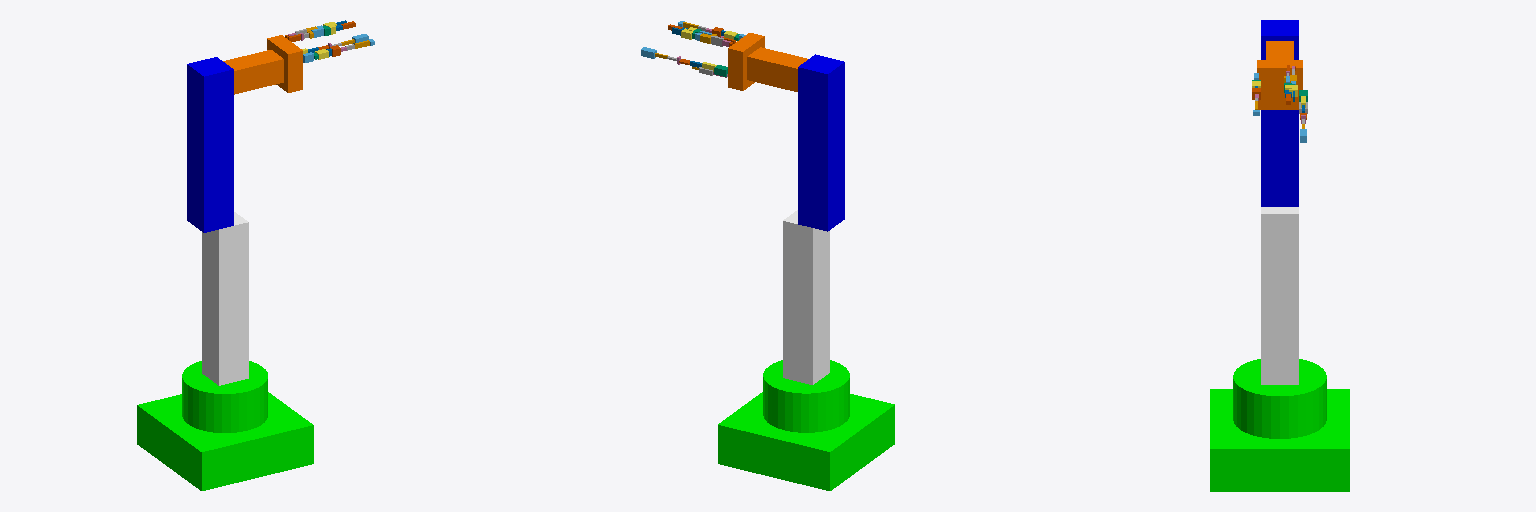
--- Render facts (derived) ---
Views: 3 orthographic renders of the robot side by side, from view 1: azimuth 30°, elevation 25°; view 2: azimuth 150°, elevation 25°; view 3: azimuth 270°, elevation 25°.
Model robot with 42 links and 41 joints (38 revolute, 1 continuous, 2 fixed), rooted at base_link, posed all joints at 0.
Links seen in each view (by area): view 1: base_link, arm_link, support_link, wrist_link, palm_link; view 2: base_link, arm_link, support_link, wrist_link, palm_link; view 3: base_link, support_link, arm_link, palm_link, wrist_link.
Link boxes in pixels (bbox=[...]): base_link: bbox=[137, 361, 313, 490]; arm_link: bbox=[187, 57, 233, 232]; support_link: bbox=[202, 212, 248, 385]; wrist_link: bbox=[223, 50, 283, 94]; palm_link: bbox=[267, 35, 302, 92]; base_link: bbox=[718, 360, 894, 490]; arm_link: bbox=[798, 54, 844, 231]; support_link: bbox=[783, 210, 829, 384]; wrist_link: bbox=[747, 47, 807, 91]; palm_link: bbox=[728, 33, 764, 90]; base_link: bbox=[1210, 359, 1349, 491]; support_link: bbox=[1261, 207, 1298, 384]; arm_link: bbox=[1261, 20, 1298, 206]; palm_link: bbox=[1257, 60, 1302, 109]; wrist_link: bbox=[1266, 41, 1293, 59].
Size in the robot's own frame: 1.4 by 0.75 by 2.55 metres.
Geometry: primitives only (box / cylinder / sphere), no mesh files.

The robot description file, URDF, robot "robot":
<?xml version='1.0' encoding='utf-8'?>
<robot name="robot">
  <link name="base_link">
    <visual>
      <origin xyz="0 0 0.125" rpy="0 0 0" />
      <geometry>
        <box size="0.75 0.75 0.25" />
      </geometry>
      <material name="green" />
    </visual>
    <visual>
      <origin xyz="0 0 0.375" rpy="0 0 0" />
      <geometry>
        <cylinder length="0.25" radius="0.25" />
      </geometry>
      <material name="green">
        <color rgba="0 1 0 1" />
      </material>
    </visual>
    <collision>
      <geometry>
        <box size="0.75 0.75 0.5" />
      </geometry>
    </collision>
    <inertial>
      <mass value="0.5" />
      <inertia ixx="0.034" ixy="0.0" ixz="0.0" iyy="0.034" iyz="0.0" izz="0.034" />
    </inertial>
  </link>
  <link name="support_link">
    <visual>
      <origin xyz="0 0 0.5" rpy="0 0 0" />
      <geometry>
        <box size="0.2 0.2 1" />
      </geometry>
      <material name="white">
        <color rgba="1 1 1 1" />
      </material>
    </visual>
    <collision>
      <geometry>
        <box size="0.2 0.2 1" />
      </geometry>
    </collision>
    <inertial>
      <mass value="0.1" />
      <inertia ixx="0.01" ixy="0.0" ixz="0.0" iyy="0.01" iyz="0.0" izz="0.01" />
    </inertial>
  </link>
  <joint name="support_joint" type="continuous">
    <origin xyz="0 0 0.5" rpy="0 0 0" />
    <parent link="base_link" />
    <child link="support_link" />
    <axis xyz="0 0 1" />
  </joint>
  <link name="arm_link">
    <visual>
      <origin xyz="0 0 0.5" rpy="0 0 0" />
      <geometry>
        <box size="0.2 0.2 1" />
      </geometry>
      <material name="blue">
        <color rgba="0 0 1 1" />
      </material>
    </visual>
    <collision>
      <geometry>
        <box size="0.2 0.2 1" />
      </geometry>
    </collision>
    <inertial>
      <mass value="0.1" />
      <inertia ixx="0.01" ixy="0.0" ixz="0.0" iyy="0.01" iyz="0.0" izz="0.01" />
    </inertial>
  </link>
  <joint name="arm_joint" type="revolute">
    <origin xyz="-0.1 0 1" rpy="0 0 0" />
    <parent link="support_link" />
    <child link="arm_link" />
    <axis xyz="0 1 0" />
    <limit lower="-3.14" upper="3.14" effort="1.0" velocity="1.0" />
  </joint>
  <link name="wrist_link">
    <visual>
      <origin xyz="0 0 0.25" rpy="0 0 0" />
      <geometry>
        <box size="0.15 0.15 0.5" />
      </geometry>
      <material name="orange">
        <color rgba="1 0.5 0 1" />
      </material>
    </visual>
    <collision>
      <geometry>
        <box size="0.15 0.15 0.5" />
      </geometry>
    </collision>
    <inertial>
      <mass value="0.1" />
      <inertia ixx="0.01" ixy="0.0" ixz="0.0" iyy="0.01" iyz="0.0" izz="0.01" />
    </inertial>
  </link>
  <joint name="wrist_joint" type="fixed">
    <origin xyz="0 0 0.9" rpy="0 1.571 0" />
    <parent link="arm_link" />
    <child link="wrist_link" />
  </joint>
  <link name="palm_link">
    <visual>
      <origin xyz="0 0 0.05" rpy="0 0 0" />
      <geometry>
        <box size="0.25 0.25 0.1" />
      </geometry>
      <material name="orange" />
    </visual>
    <collision>
      <geometry>
        <box size="0.25 0.25 0.1" />
      </geometry>
    </collision>
    <inertial>
      <mass value="0.1" />
      <inertia ixx="0.01" ixy="0.0" ixz="0.0" iyy="0.01" iyz="0.0" izz="0.01" />
    </inertial>
  </link>
  <joint name="palm_joint" type="fixed">
    <origin xyz="0 0 0.45" rpy="0 0 0" />
    <parent link="wrist_link" />
    <child link="palm_link" />
  </joint>
  <link name="finger_link_0_0">
    <visual>
      <origin xyz="0 0 0.008" rpy="0 0 0" />
      <geometry>
        <box size="0.024 0.022 0.016" />
      </geometry>
    </visual>
    <collision>
      <geometry>
        <box size="0.024 0.022 0.016" />
      </geometry>
    </collision>
    <inertial>
      <mass value="0.003" />
      <inertia ixx="0.0" iyy="0.0" izz="0.0" ixy="0" ixz="0" iyz="0" />
    </inertial>
  </link>
  <joint name="finger_joint_palm_link_to_finger_link_0_0" type="revolute">
    <origin xyz="-0.125 0.074 0.1" rpy="0 0 0" />
    <parent link="palm_link" />
    <child link="finger_link_0_0" />
    <axis xyz="0.0 -1.0 0.0" />
    <limit lower="-3.142" upper="3.142" effort="10" velocity="10" />
  </joint>
  <link name="finger_link_0_1">
    <visual>
      <origin xyz="0 0 0.023" rpy="0 0 0" />
      <geometry>
        <box size="0.031 0.017 0.046" />
      </geometry>
    </visual>
    <collision>
      <geometry>
        <box size="0.031 0.017 0.046" />
      </geometry>
    </collision>
    <inertial>
      <mass value="0.007" />
      <inertia ixx="0.0" iyy="0.0" izz="0.0" ixy="0" ixz="0" iyz="0" />
    </inertial>
  </link>
  <joint name="finger_joint_finger_link_0_0_to_finger_link_0_1" type="revolute">
    <origin xyz="0.0 0.0 0.016" rpy="0 0 0" />
    <parent link="finger_link_0_0" />
    <child link="finger_link_0_1" />
    <axis xyz="1.0 0.0 0.0" />
    <limit lower="-3.142" upper="3.142" effort="10" velocity="10" />
  </joint>
  <link name="finger_link_0_2">
    <visual>
      <origin xyz="0 0 0.0375" rpy="0 0 0" />
      <geometry>
        <box size="0.049 0.015 0.075" />
      </geometry>
    </visual>
    <collision>
      <geometry>
        <box size="0.049 0.015 0.075" />
      </geometry>
    </collision>
    <inertial>
      <mass value="0.017" />
      <inertia ixx="0.0" iyy="0.0" izz="0.0" ixy="0" ixz="0" iyz="0" />
    </inertial>
  </link>
  <joint name="finger_joint_finger_link_0_1_to_finger_link_0_2" type="revolute">
    <origin xyz="0.0 0.0 0.046" rpy="0 0 0" />
    <parent link="finger_link_0_1" />
    <child link="finger_link_0_2" />
    <axis xyz="0.0 1.0 0.0" />
    <limit lower="-3.142" upper="3.142" effort="10" velocity="10" />
  </joint>
  <link name="finger_link_0_3">
    <visual>
      <origin xyz="0 0 0.035" rpy="0 0 0" />
      <geometry>
        <box size="0.039 0.038 0.07" />
      </geometry>
    </visual>
    <collision>
      <geometry>
        <box size="0.039 0.038 0.07" />
      </geometry>
    </collision>
    <inertial>
      <mass value="0.031" />
      <inertia ixx="0.0" iyy="0.0" izz="0.0" ixy="0" ixz="0" iyz="0" />
    </inertial>
  </link>
  <joint name="finger_joint_finger_link_0_2_to_finger_link_0_3" type="revolute">
    <origin xyz="0.0 0.0 0.075" rpy="0 0 0" />
    <parent link="finger_link_0_2" />
    <child link="finger_link_0_3" />
    <axis xyz="1.0 0.0 0.0" />
    <limit lower="-3.142" upper="3.142" effort="10" velocity="10" />
  </joint>
  <link name="finger_link_0_4">
    <visual>
      <origin xyz="0 0 0.0185" rpy="0 0 0" />
      <geometry>
        <box size="0.038 0.026 0.037" />
      </geometry>
    </visual>
    <collision>
      <geometry>
        <box size="0.038 0.026 0.037" />
      </geometry>
    </collision>
    <inertial>
      <mass value="0.011" />
      <inertia ixx="0.0" iyy="0.0" izz="0.0" ixy="0" ixz="0" iyz="0" />
    </inertial>
  </link>
  <joint name="finger_joint_finger_link_0_3_to_finger_link_0_4" type="revolute">
    <origin xyz="0.0 0.0 0.07" rpy="0 0 0" />
    <parent link="finger_link_0_3" />
    <child link="finger_link_0_4" />
    <axis xyz="0.0 1.0 0.0" />
    <limit lower="-3.142" upper="3.142" effort="10" velocity="10" />
  </joint>
  <link name="finger_link_0_5">
    <visual>
      <origin xyz="0 0 0.0095" rpy="0 0 0" />
      <geometry>
        <box size="0.035 0.017 0.019" />
      </geometry>
    </visual>
    <collision>
      <geometry>
        <box size="0.035 0.017 0.019" />
      </geometry>
    </collision>
    <inertial>
      <mass value="0.003" />
      <inertia ixx="0.0" iyy="0.0" izz="0.0" ixy="0" ixz="0" iyz="0" />
    </inertial>
  </link>
  <joint name="finger_joint_finger_link_0_4_to_finger_link_0_5" type="revolute">
    <origin xyz="0.0 0.0 0.037" rpy="0 0 0" />
    <parent link="finger_link_0_4" />
    <child link="finger_link_0_5" />
    <axis xyz="0.0 1.0 0.0" />
    <limit lower="-3.142" upper="3.142" effort="10" velocity="10" />
  </joint>
  <link name="finger_link_0_6">
    <visual>
      <origin xyz="0 0 0.0325" rpy="0 0 0" />
      <geometry>
        <box size="0.04 0.047 0.065" />
      </geometry>
    </visual>
    <collision>
      <geometry>
        <box size="0.04 0.047 0.065" />
      </geometry>
    </collision>
    <inertial>
      <mass value="0.037" />
      <inertia ixx="0.0" iyy="0.0" izz="0.0" ixy="0" ixz="0" iyz="0" />
    </inertial>
  </link>
  <joint name="finger_joint_finger_link_0_5_to_finger_link_0_6" type="revolute">
    <origin xyz="0.0 0.0 0.019" rpy="0 0 0" />
    <parent link="finger_link_0_5" />
    <child link="finger_link_0_6" />
    <axis xyz="1.0 0.0 0.0" />
    <limit lower="-3.142" upper="3.142" effort="10" velocity="10" />
  </joint>
  <link name="finger_link_0_7">
    <visual>
      <origin xyz="0 0 0.036" rpy="0 0 0" />
      <geometry>
        <box size="0.034 0.012 0.072" />
      </geometry>
    </visual>
    <collision>
      <geometry>
        <box size="0.034 0.012 0.072" />
      </geometry>
    </collision>
    <inertial>
      <mass value="0.009" />
      <inertia ixx="0.0" iyy="0.0" izz="0.0" ixy="0" ixz="0" iyz="0" />
    </inertial>
  </link>
  <joint name="finger_joint_finger_link_0_6_to_finger_link_0_7" type="revolute">
    <origin xyz="0.0 0.0 0.065" rpy="0 0 0" />
    <parent link="finger_link_0_6" />
    <child link="finger_link_0_7" />
    <axis xyz="0.0 1.0 0.0" />
    <limit lower="-3.142" upper="3.142" effort="10" velocity="10" />
  </joint>
  <link name="finger_link_1_0">
    <visual>
      <origin xyz="0 0 0.04" rpy="0 0 0" />
      <geometry>
        <box size="0.032 0.016 0.08" />
      </geometry>
    </visual>
    <collision>
      <geometry>
        <box size="0.032 0.016 0.08" />
      </geometry>
    </collision>
    <inertial>
      <mass value="0.012" />
      <inertia ixx="0.0" iyy="0.0" izz="0.0" ixy="0" ixz="0" iyz="0" />
    </inertial>
  </link>
  <joint name="finger_joint_palm_link_to_finger_link_1_0" type="revolute">
    <origin xyz="-0.125 0.044 0.1" rpy="0 0 0" />
    <parent link="palm_link" />
    <child link="finger_link_1_0" />
    <axis xyz="0.0 -1.0 0.0" />
    <limit lower="-3.142" upper="3.142" effort="10" velocity="10" />
  </joint>
  <link name="finger_link_1_1">
    <visual>
      <origin xyz="0 0 0.007" rpy="0 0 0" />
      <geometry>
        <box size="0.04 0.02 0.014" />
      </geometry>
    </visual>
    <collision>
      <geometry>
        <box size="0.04 0.02 0.014" />
      </geometry>
    </collision>
    <inertial>
      <mass value="0.003" />
      <inertia ixx="0.0" iyy="0.0" izz="0.0" ixy="0" ixz="0" iyz="0" />
    </inertial>
  </link>
  <joint name="finger_joint_finger_link_1_0_to_finger_link_1_1" type="revolute">
    <origin xyz="0.0 0.0 0.08" rpy="0 0 0" />
    <parent link="finger_link_1_0" />
    <child link="finger_link_1_1" />
    <axis xyz="1.0 0.0 0.0" />
    <limit lower="-3.142" upper="3.142" effort="10" velocity="10" />
  </joint>
  <link name="finger_link_1_2">
    <visual>
      <origin xyz="0 0 0.0195" rpy="0 0 0" />
      <geometry>
        <box size="0.026 0.012 0.039" />
      </geometry>
    </visual>
    <collision>
      <geometry>
        <box size="0.026 0.012 0.039" />
      </geometry>
    </collision>
    <inertial>
      <mass value="0.004" />
      <inertia ixx="0.0" iyy="0.0" izz="0.0" ixy="0" ixz="0" iyz="0" />
    </inertial>
  </link>
  <joint name="finger_joint_finger_link_1_1_to_finger_link_1_2" type="revolute">
    <origin xyz="0.0 0.0 0.014" rpy="0 0 0" />
    <parent link="finger_link_1_1" />
    <child link="finger_link_1_2" />
    <axis xyz="1.0 0.0 0.0" />
    <limit lower="-3.142" upper="3.142" effort="10" velocity="10" />
  </joint>
  <link name="finger_link_1_3">
    <visual>
      <origin xyz="0 0 0.012" rpy="0 0 0" />
      <geometry>
        <box size="0.031 0.042 0.024" />
      </geometry>
    </visual>
    <collision>
      <geometry>
        <box size="0.031 0.042 0.024" />
      </geometry>
    </collision>
    <inertial>
      <mass value="0.009" />
      <inertia ixx="0.0" iyy="0.0" izz="0.0" ixy="0" ixz="0" iyz="0" />
    </inertial>
  </link>
  <joint name="finger_joint_finger_link_1_2_to_finger_link_1_3" type="revolute">
    <origin xyz="0.0 0.0 0.039" rpy="0 0 0" />
    <parent link="finger_link_1_2" />
    <child link="finger_link_1_3" />
    <axis xyz="0.0 1.0 0.0" />
    <limit lower="-3.142" upper="3.142" effort="10" velocity="10" />
  </joint>
  <link name="finger_link_1_4">
    <visual>
      <origin xyz="0 0 0.0375" rpy="0 0 0" />
      <geometry>
        <box size="0.045 0.019 0.075" />
      </geometry>
    </visual>
    <collision>
      <geometry>
        <box size="0.045 0.019 0.075" />
      </geometry>
    </collision>
    <inertial>
      <mass value="0.019" />
      <inertia ixx="0.0" iyy="0.0" izz="0.0" ixy="0" ixz="0" iyz="0" />
    </inertial>
  </link>
  <joint name="finger_joint_finger_link_1_3_to_finger_link_1_4" type="revolute">
    <origin xyz="0.0 0.0 0.024" rpy="0 0 0" />
    <parent link="finger_link_1_3" />
    <child link="finger_link_1_4" />
    <axis xyz="1.0 0.0 0.0" />
    <limit lower="-3.142" upper="3.142" effort="10" velocity="10" />
  </joint>
  <link name="finger_link_1_5">
    <visual>
      <origin xyz="0 0 0.0175" rpy="0 0 0" />
      <geometry>
        <box size="0.043 0.045 0.035" />
      </geometry>
    </visual>
    <collision>
      <geometry>
        <box size="0.043 0.045 0.035" />
      </geometry>
    </collision>
    <inertial>
      <mass value="0.02" />
      <inertia ixx="0.0" iyy="0.0" izz="0.0" ixy="0" ixz="0" iyz="0" />
    </inertial>
  </link>
  <joint name="finger_joint_finger_link_1_4_to_finger_link_1_5" type="revolute">
    <origin xyz="0.0 0.0 0.075" rpy="0 0 0" />
    <parent link="finger_link_1_4" />
    <child link="finger_link_1_5" />
    <axis xyz="0.0 1.0 0.0" />
    <limit lower="-3.142" upper="3.142" effort="10" velocity="10" />
  </joint>
  <link name="finger_link_1_6">
    <visual>
      <origin xyz="0 0 0.0195" rpy="0 0 0" />
      <geometry>
        <box size="0.047 0.039 0.039" />
      </geometry>
    </visual>
    <collision>
      <geometry>
        <box size="0.047 0.039 0.039" />
      </geometry>
    </collision>
    <inertial>
      <mass value="0.021" />
      <inertia ixx="0.0" iyy="0.0" izz="0.0" ixy="0" ixz="0" iyz="0" />
    </inertial>
  </link>
  <joint name="finger_joint_finger_link_1_5_to_finger_link_1_6" type="revolute">
    <origin xyz="0.0 0.0 0.035" rpy="0 0 0" />
    <parent link="finger_link_1_5" />
    <child link="finger_link_1_6" />
    <axis xyz="1.0 0.0 0.0" />
    <limit lower="-3.142" upper="3.142" effort="10" velocity="10" />
  </joint>
  <link name="finger_link_1_7">
    <visual>
      <origin xyz="0 0 0.0245" rpy="0 0 0" />
      <geometry>
        <box size="0.021 0.035 0.049" />
      </geometry>
    </visual>
    <collision>
      <geometry>
        <box size="0.021 0.035 0.049" />
      </geometry>
    </collision>
    <inertial>
      <mass value="0.011" />
      <inertia ixx="0.0" iyy="0.0" izz="0.0" ixy="0" ixz="0" iyz="0" />
    </inertial>
  </link>
  <joint name="finger_joint_finger_link_1_6_to_finger_link_1_7" type="revolute">
    <origin xyz="0.0 0.0 0.039" rpy="0 0 0" />
    <parent link="finger_link_1_6" />
    <child link="finger_link_1_7" />
    <axis xyz="0.0 1.0 0.0" />
    <limit lower="-3.142" upper="3.142" effort="10" velocity="10" />
  </joint>
  <link name="finger_link_1_8">
    <visual>
      <origin xyz="0 0 0.0425" rpy="0 0 0" />
      <geometry>
        <box size="0.026 0.025 0.085" />
      </geometry>
    </visual>
    <collision>
      <geometry>
        <box size="0.026 0.025 0.085" />
      </geometry>
    </collision>
    <inertial>
      <mass value="0.017" />
      <inertia ixx="0.0" iyy="0.0" izz="0.0" ixy="0" ixz="0" iyz="0" />
    </inertial>
  </link>
  <joint name="finger_joint_finger_link_1_7_to_finger_link_1_8" type="revolute">
    <origin xyz="0.0 0.0 0.049" rpy="0 0 0" />
    <parent link="finger_link_1_7" />
    <child link="finger_link_1_8" />
    <axis xyz="0.0 1.0 0.0" />
    <limit lower="-3.142" upper="3.142" effort="10" velocity="10" />
  </joint>
  <link name="finger_link_2_0">
    <visual>
      <origin xyz="0 0 0.045" rpy="0 0 0" />
      <geometry>
        <box size="0.018 0.034 0.09" />
      </geometry>
    </visual>
    <collision>
      <geometry>
        <box size="0.018 0.034 0.09" />
      </geometry>
    </collision>
    <inertial>
      <mass value="0.017" />
      <inertia ixx="0.0" iyy="0.0" izz="0.0" ixy="0" ixz="0" iyz="0" />
    </inertial>
  </link>
  <joint name="finger_joint_palm_link_to_finger_link_2_0" type="revolute">
    <origin xyz="0.048 0.125 0.1" rpy="0 0 0" />
    <parent link="palm_link" />
    <child link="finger_link_2_0" />
    <axis xyz="-1.0 0.0 0.0" />
    <limit lower="-3.142" upper="3.142" effort="10" velocity="10" />
  </joint>
  <link name="finger_link_2_1">
    <visual>
      <origin xyz="0 0 0.046" rpy="0 0 0" />
      <geometry>
        <box size="0.029 0.048 0.092" />
      </geometry>
    </visual>
    <collision>
      <geometry>
        <box size="0.029 0.048 0.092" />
      </geometry>
    </collision>
    <inertial>
      <mass value="0.038" />
      <inertia ixx="0.0" iyy="0.0" izz="0.0" ixy="0" ixz="0" iyz="0" />
    </inertial>
  </link>
  <joint name="finger_joint_finger_link_2_0_to_finger_link_2_1" type="revolute">
    <origin xyz="0.0 0.0 0.09" rpy="0 0 0" />
    <parent link="finger_link_2_0" />
    <child link="finger_link_2_1" />
    <axis xyz="0.0 1.0 0.0" />
    <limit lower="-3.142" upper="3.142" effort="10" velocity="10" />
  </joint>
  <link name="finger_link_2_2">
    <visual>
      <origin xyz="0 0 0.0245" rpy="0 0 0" />
      <geometry>
        <box size="0.014 0.02 0.049" />
      </geometry>
    </visual>
    <collision>
      <geometry>
        <box size="0.014 0.02 0.049" />
      </geometry>
    </collision>
    <inertial>
      <mass value="0.004" />
      <inertia ixx="0.0" iyy="0.0" izz="0.0" ixy="0" ixz="0" iyz="0" />
    </inertial>
  </link>
  <joint name="finger_joint_finger_link_2_1_to_finger_link_2_2" type="revolute">
    <origin xyz="0.0 0.0 0.092" rpy="0 0 0" />
    <parent link="finger_link_2_1" />
    <child link="finger_link_2_2" />
    <axis xyz="1.0 0.0 0.0" />
    <limit lower="-3.142" upper="3.142" effort="10" velocity="10" />
  </joint>
  <link name="finger_link_3_0">
    <visual>
      <origin xyz="0 0 0.0325" rpy="0 0 0" />
      <geometry>
        <box size="0.046 0.031 0.065" />
      </geometry>
    </visual>
    <collision>
      <geometry>
        <box size="0.046 0.031 0.065" />
      </geometry>
    </collision>
    <inertial>
      <mass value="0.028" />
      <inertia ixx="0.0" iyy="0.0" izz="0.0" ixy="0" ixz="0" iyz="0" />
    </inertial>
  </link>
  <joint name="finger_joint_palm_link_to_finger_link_3_0" type="revolute">
    <origin xyz="-0.072 -0.125 0.1" rpy="0 0 0" />
    <parent link="palm_link" />
    <child link="finger_link_3_0" />
    <axis xyz="1.0 0.0 0.0" />
    <limit lower="-3.142" upper="3.142" effort="10" velocity="10" />
  </joint>
  <link name="finger_link_3_1">
    <visual>
      <origin xyz="0 0 0.013" rpy="0 0 0" />
      <geometry>
        <box size="0.024 0.046 0.026" />
      </geometry>
    </visual>
    <collision>
      <geometry>
        <box size="0.024 0.046 0.026" />
      </geometry>
    </collision>
    <inertial>
      <mass value="0.009" />
      <inertia ixx="0.0" iyy="0.0" izz="0.0" ixy="0" ixz="0" iyz="0" />
    </inertial>
  </link>
  <joint name="finger_joint_finger_link_3_0_to_finger_link_3_1" type="revolute">
    <origin xyz="0.0 0.0 0.065" rpy="0 0 0" />
    <parent link="finger_link_3_0" />
    <child link="finger_link_3_1" />
    <axis xyz="1.0 0.0 0.0" />
    <limit lower="-3.142" upper="3.142" effort="10" velocity="10" />
  </joint>
  <link name="finger_link_3_2">
    <visual>
      <origin xyz="0 0 0.0345" rpy="0 0 0" />
      <geometry>
        <box size="0.037 0.048 0.069" />
      </geometry>
    </visual>
    <collision>
      <geometry>
        <box size="0.037 0.048 0.069" />
      </geometry>
    </collision>
    <inertial>
      <mass value="0.037" />
      <inertia ixx="0.0" iyy="0.0" izz="0.0" ixy="0" ixz="0" iyz="0" />
    </inertial>
  </link>
  <joint name="finger_joint_finger_link_3_1_to_finger_link_3_2" type="revolute">
    <origin xyz="0.0 0.0 0.026" rpy="0 0 0" />
    <parent link="finger_link_3_1" />
    <child link="finger_link_3_2" />
    <axis xyz="0.0 1.0 0.0" />
    <limit lower="-3.142" upper="3.142" effort="10" velocity="10" />
  </joint>
  <link name="finger_link_3_3">
    <visual>
      <origin xyz="0 0 0.0135" rpy="0 0 0" />
      <geometry>
        <box size="0.041 0.02 0.027" />
      </geometry>
    </visual>
    <collision>
      <geometry>
        <box size="0.041 0.02 0.027" />
      </geometry>
    </collision>
    <inertial>
      <mass value="0.007" />
      <inertia ixx="0.0" iyy="0.0" izz="0.0" ixy="0" ixz="0" iyz="0" />
    </inertial>
  </link>
  <joint name="finger_joint_finger_link_3_2_to_finger_link_3_3" type="revolute">
    <origin xyz="0.0 0.0 0.069" rpy="0 0 0" />
    <parent link="finger_link_3_2" />
    <child link="finger_link_3_3" />
    <axis xyz="1.0 0.0 0.0" />
    <limit lower="-3.142" upper="3.142" effort="10" velocity="10" />
  </joint>
  <link name="finger_link_3_4">
    <visual>
      <origin xyz="0 0 0.026" rpy="0 0 0" />
      <geometry>
        <box size="0.046 0.047 0.052" />
      </geometry>
    </visual>
    <collision>
      <geometry>
        <box size="0.046 0.047 0.052" />
      </geometry>
    </collision>
    <inertial>
      <mass value="0.034" />
      <inertia ixx="0.0" iyy="0.0" izz="0.0" ixy="0" ixz="0" iyz="0" />
    </inertial>
  </link>
  <joint name="finger_joint_finger_link_3_3_to_finger_link_3_4" type="revolute">
    <origin xyz="0.0 0.0 0.027" rpy="0 0 0" />
    <parent link="finger_link_3_3" />
    <child link="finger_link_3_4" />
    <axis xyz="0.0 1.0 0.0" />
    <limit lower="-3.142" upper="3.142" effort="10" velocity="10" />
  </joint>
  <link name="finger_link_3_5">
    <visual>
      <origin xyz="0 0 0.0235" rpy="0 0 0" />
      <geometry>
        <box size="0.018 0.021 0.047" />
      </geometry>
    </visual>
    <collision>
      <geometry>
        <box size="0.018 0.021 0.047" />
      </geometry>
    </collision>
    <inertial>
      <mass value="0.005" />
      <inertia ixx="0.0" iyy="0.0" izz="0.0" ixy="0" ixz="0" iyz="0" />
    </inertial>
  </link>
  <joint name="finger_joint_finger_link_3_4_to_finger_link_3_5" type="revolute">
    <origin xyz="0.0 0.0 0.052" rpy="0 0 0" />
    <parent link="finger_link_3_4" />
    <child link="finger_link_3_5" />
    <axis xyz="0.0 1.0 0.0" />
    <limit lower="-3.142" upper="3.142" effort="10" velocity="10" />
  </joint>
  <link name="finger_link_3_6">
    <visual>
      <origin xyz="0 0 0.028" rpy="0 0 0" />
      <geometry>
        <box size="0.024 0.015 0.056" />
      </geometry>
    </visual>
    <collision>
      <geometry>
        <box size="0.024 0.015 0.056" />
      </geometry>
    </collision>
    <inertial>
      <mass value="0.006" />
      <inertia ixx="0.0" iyy="0.0" izz="0.0" ixy="0" ixz="0" iyz="0" />
    </inertial>
  </link>
  <joint name="finger_joint_finger_link_3_5_to_finger_link_3_6" type="revolute">
    <origin xyz="0.0 0.0 0.047" rpy="0 0 0" />
    <parent link="finger_link_3_5" />
    <child link="finger_link_3_6" />
    <axis xyz="1.0 0.0 0.0" />
    <limit lower="-3.142" upper="3.142" effort="10" velocity="10" />
  </joint>
  <link name="finger_link_3_7">
    <visual>
      <origin xyz="0 0 0.0485" rpy="0 0 0" />
      <geometry>
        <box size="0.03 0.014 0.097" />
      </geometry>
    </visual>
    <collision>
      <geometry>
        <box size="0.03 0.014 0.097" />
      </geometry>
    </collision>
    <inertial>
      <mass value="0.012" />
      <inertia ixx="0.0" iyy="0.0" izz="0.0" ixy="0" ixz="0" iyz="0" />
    </inertial>
  </link>
  <joint name="finger_joint_finger_link_3_6_to_finger_link_3_7" type="revolute">
    <origin xyz="0.0 0.0 0.056" rpy="0 0 0" />
    <parent link="finger_link_3_6" />
    <child link="finger_link_3_7" />
    <axis xyz="1.0 0.0 0.0" />
    <limit lower="-3.142" upper="3.142" effort="10" velocity="10" />
  </joint>
  <link name="finger_link_3_8">
    <visual>
      <origin xyz="0 0 0.0145" rpy="0 0 0" />
      <geometry>
        <box size="0.023 0.041 0.029" />
      </geometry>
    </visual>
    <collision>
      <geometry>
        <box size="0.023 0.041 0.029" />
      </geometry>
    </collision>
    <inertial>
      <mass value="0.008" />
      <inertia ixx="0.0" iyy="0.0" izz="0.0" ixy="0" ixz="0" iyz="0" />
    </inertial>
  </link>
  <joint name="finger_joint_finger_link_3_7_to_finger_link_3_8" type="revolute">
    <origin xyz="0.0 0.0 0.097" rpy="0 0 0" />
    <parent link="finger_link_3_7" />
    <child link="finger_link_3_8" />
    <axis xyz="0.0 1.0 0.0" />
    <limit lower="-3.142" upper="3.142" effort="10" velocity="10" />
  </joint>
  <link name="finger_link_4_0">
    <visual>
      <origin xyz="0 0 0.0385" rpy="0 0 0" />
      <geometry>
        <box size="0.043 0.049 0.077" />
      </geometry>
    </visual>
    <collision>
      <geometry>
        <box size="0.043 0.049 0.077" />
      </geometry>
    </collision>
    <inertial>
      <mass value="0.049" />
      <inertia ixx="0.0" iyy="0.0" izz="0.0" ixy="0" ixz="0" iyz="0" />
    </inertial>
  </link>
  <joint name="finger_joint_palm_link_to_finger_link_4_0" type="revolute">
    <origin xyz="0.028 0.125 0.1" rpy="0 0 0" />
    <parent link="palm_link" />
    <child link="finger_link_4_0" />
    <axis xyz="-1.0 0.0 0.0" />
    <limit lower="-3.142" upper="3.142" effort="10" velocity="10" />
  </joint>
  <link name="finger_link_4_1">
    <visual>
      <origin xyz="0 0 0.0455" rpy="0 0 0" />
      <geometry>
        <box size="0.047 0.025 0.091" />
      </geometry>
    </visual>
    <collision>
      <geometry>
        <box size="0.047 0.025 0.091" />
      </geometry>
    </collision>
    <inertial>
      <mass value="0.032" />
      <inertia ixx="0.0" iyy="0.0" izz="0.0" ixy="0" ixz="0" iyz="0" />
    </inertial>
  </link>
  <joint name="finger_joint_finger_link_4_0_to_finger_link_4_1" type="revolute">
    <origin xyz="0.0 0.0 0.077" rpy="0 0 0" />
    <parent link="finger_link_4_0" />
    <child link="finger_link_4_1" />
    <axis xyz="0.0 1.0 0.0" />
    <limit lower="-3.142" upper="3.142" effort="10" velocity="10" />
  </joint>
  <link name="finger_link_4_2">
    <visual>
      <origin xyz="0 0 0.0395" rpy="0 0 0" />
      <geometry>
        <box size="0.027 0.018 0.079" />
      </geometry>
    </visual>
    <collision>
      <geometry>
        <box size="0.027 0.018 0.079" />
      </geometry>
    </collision>
    <inertial>
      <mass value="0.012" />
      <inertia ixx="0.0" iyy="0.0" izz="0.0" ixy="0" ixz="0" iyz="0" />
    </inertial>
  </link>
  <joint name="finger_joint_finger_link_4_1_to_finger_link_4_2" type="revolute">
    <origin xyz="0.0 0.0 0.091" rpy="0 0 0" />
    <parent link="finger_link_4_1" />
    <child link="finger_link_4_2" />
    <axis xyz="1.0 0.0 0.0" />
    <limit lower="-3.142" upper="3.142" effort="10" velocity="10" />
  </joint>
  <link name="finger_link_4_3">
    <visual>
      <origin xyz="0 0 0.035" rpy="0 0 0" />
      <geometry>
        <box size="0.011 0.04 0.07" />
      </geometry>
    </visual>
    <collision>
      <geometry>
        <box size="0.011 0.04 0.07" />
      </geometry>
    </collision>
    <inertial>
      <mass value="0.009" />
      <inertia ixx="0.0" iyy="0.0" izz="0.0" ixy="0" ixz="0" iyz="0" />
    </inertial>
  </link>
  <joint name="finger_joint_finger_link_4_2_to_finger_link_4_3" type="revolute">
    <origin xyz="0.0 0.0 0.079" rpy="0 0 0" />
    <parent link="finger_link_4_2" />
    <child link="finger_link_4_3" />
    <axis xyz="0.0 1.0 0.0" />
    <limit lower="-3.142" upper="3.142" effort="10" velocity="10" />
  </joint>
  <link name="finger_link_4_4">
    <visual>
      <origin xyz="0 0 0.007" rpy="0 0 0" />
      <geometry>
        <box size="0.043 0.023 0.014" />
      </geometry>
    </visual>
    <collision>
      <geometry>
        <box size="0.043 0.023 0.014" />
      </geometry>
    </collision>
    <inertial>
      <mass value="0.004" />
      <inertia ixx="0.0" iyy="0.0" izz="0.0" ixy="0" ixz="0" iyz="0" />
    </inertial>
  </link>
  <joint name="finger_joint_finger_link_4_3_to_finger_link_4_4" type="revolute">
    <origin xyz="0.0 0.0 0.07" rpy="0 0 0" />
    <parent link="finger_link_4_3" />
    <child link="finger_link_4_4" />
    <axis xyz="0.0 1.0 0.0" />
    <limit lower="-3.142" upper="3.142" effort="10" velocity="10" />
  </joint>
  <link name="finger_link_4_5">
    <visual>
      <origin xyz="0 0 0.035" rpy="0 0 0" />
      <geometry>
        <box size="0.011 0.017 0.07" />
      </geometry>
    </visual>
    <collision>
      <geometry>
        <box size="0.011 0.017 0.07" />
      </geometry>
    </collision>
    <inertial>
      <mass value="0.004" />
      <inertia ixx="0.0" iyy="0.0" izz="0.0" ixy="0" ixz="0" iyz="0" />
    </inertial>
  </link>
  <joint name="finger_joint_finger_link_4_4_to_finger_link_4_5" type="revolute">
    <origin xyz="0.0 0.0 0.014" rpy="0 0 0" />
    <parent link="finger_link_4_4" />
    <child link="finger_link_4_5" />
    <axis xyz="0.0 1.0 0.0" />
    <limit lower="-3.142" upper="3.142" effort="10" velocity="10" />
  </joint>
  <link name="finger_link_4_6">
    <visual>
      <origin xyz="0 0 0.041" rpy="0 0 0" />
      <geometry>
        <box size="0.019 0.014 0.082" />
      </geometry>
    </visual>
    <collision>
      <geometry>
        <box size="0.019 0.014 0.082" />
      </geometry>
    </collision>
    <inertial>
      <mass value="0.007" />
      <inertia ixx="0.0" iyy="0.0" izz="0.0" ixy="0" ixz="0" iyz="0" />
    </inertial>
  </link>
  <joint name="finger_joint_finger_link_4_5_to_finger_link_4_6" type="revolute">
    <origin xyz="0.0 0.0 0.07" rpy="0 0 0" />
    <parent link="finger_link_4_5" />
    <child link="finger_link_4_6" />
    <axis xyz="0.0 1.0 0.0" />
    <limit lower="-3.142" upper="3.142" effort="10" velocity="10" />
  </joint>
  <link name="finger_link_4_7">
    <visual>
      <origin xyz="0 0 0.0435" rpy="0 0 0" />
      <geometry>
        <box size="0.041 0.042 0.087" />
      </geometry>
    </visual>
    <collision>
      <geometry>
        <box size="0.041 0.042 0.087" />
      </geometry>
    </collision>
    <inertial>
      <mass value="0.045" />
      <inertia ixx="0.0" iyy="0.0" izz="0.0" ixy="0" ixz="0" iyz="0" />
    </inertial>
  </link>
  <joint name="finger_joint_finger_link_4_6_to_finger_link_4_7" type="revolute">
    <origin xyz="0.0 0.0 0.082" rpy="0 0 0" />
    <parent link="finger_link_4_6" />
    <child link="finger_link_4_7" />
    <axis xyz="0.0 1.0 0.0" />
    <limit lower="-3.142" upper="3.142" effort="10" velocity="10" />
  </joint>
</robot>
